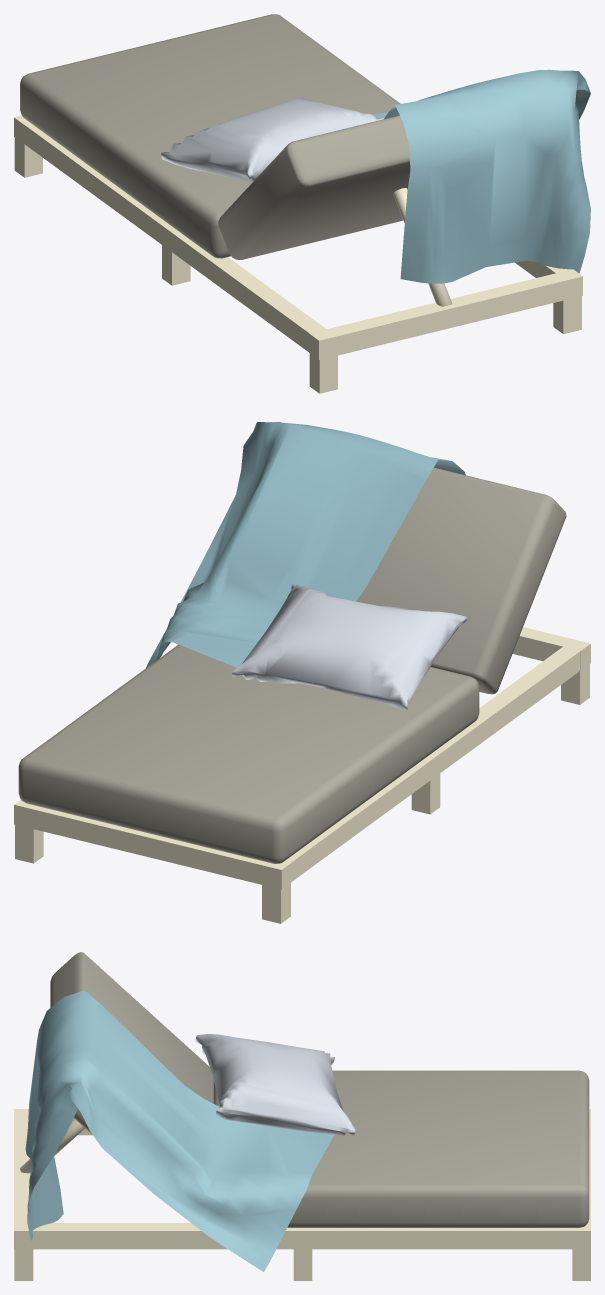
File: sun_lounger.glb
The picture shows the model from 3 angles, top to bottom: view 1: azimuth 30°, elevation 25°; view 2: azimuth 150°, elevation 25°; view 3: azimuth 270°, elevation 25°; orthographic projection. The views are drawn at different scales.
Visible parts, largest first — view 1: Object_6, Object_12, Object_4, Object_14; view 2: Object_6, Object_12, Object_4, Object_14; view 3: Object_6, Object_12, Object_4, Object_14.
Part boxes in pixels (x1,y1,x2,y2): Object_6: (20, 14, 410, 259); Object_12: (372, 69, 590, 283); Object_4: (14, 115, 582, 393); Object_14: (161, 98, 384, 182); Object_6: (18, 467, 566, 863); Object_12: (146, 422, 465, 667); Object_4: (14, 627, 590, 923); Object_14: (232, 583, 466, 710); Object_6: (50, 952, 589, 1227); Object_12: (25, 990, 334, 1271); Object_4: (14, 1109, 590, 1280); Object_14: (195, 1034, 355, 1136).
Bounding box in the file's own units: 1.19 × 0.8453 × 2.
